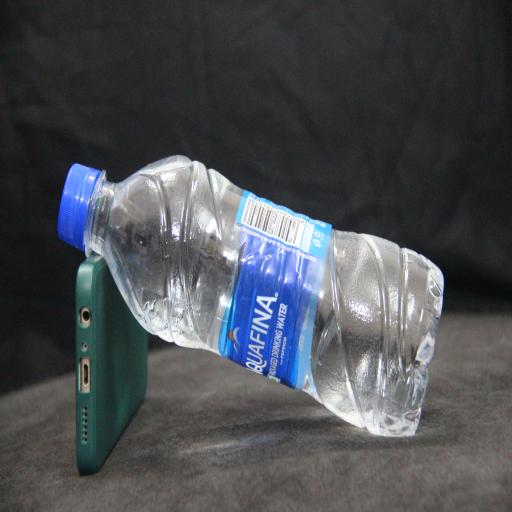Aquafina: (58, 156, 444, 436)
